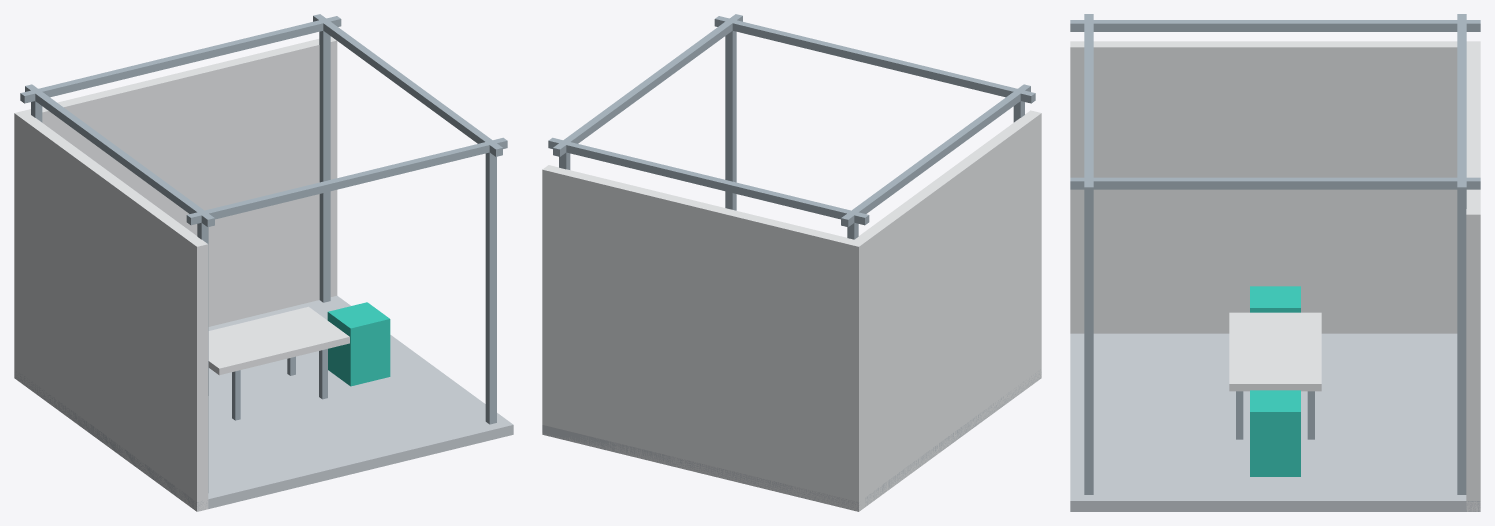
The picture shows the model from 3 angles, left to right: view 1: azimuth 30°, elevation 25°; view 2: azimuth 150°, elevation 25°; view 3: azimuth 270°, elevation 25°; orthographic projection. The views are drawn at different scales.
Visible parts, largest first — view 1: Exhibition Booth Concept; view 2: Exhibition Booth Concept; view 3: Exhibition Booth Concept.
Part boxes in pixels (x1,y1,x2,y2): Exhibition Booth Concept: [14, 14, 513, 511]; Exhibition Booth Concept: [542, 14, 1041, 511]; Exhibition Booth Concept: [1070, 14, 1480, 511].
Size of the model in its own units: 4 by 3.49 by 4.
